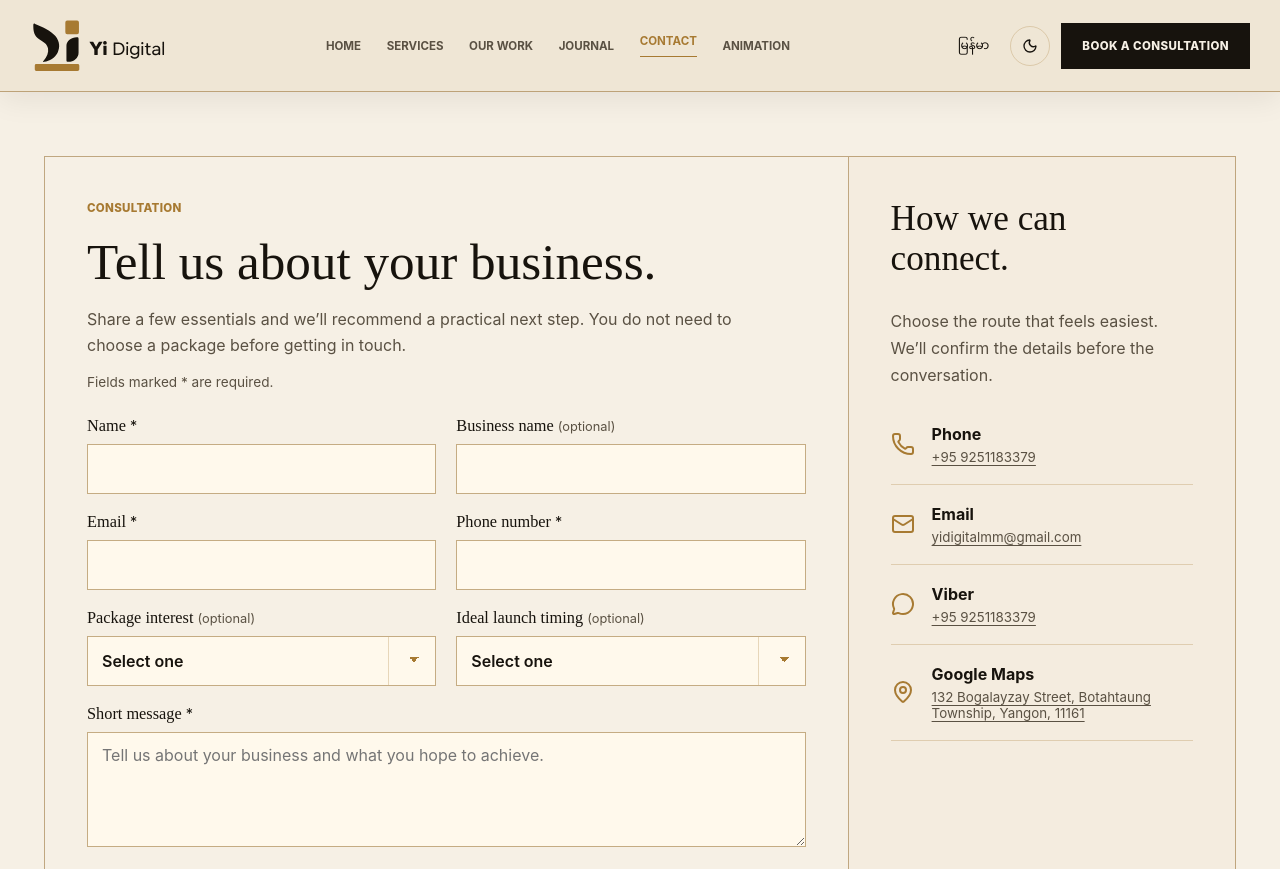
contact submission UI › stays on the page and confirms only a successful API response
This screenshot has width=1280, height=869.
Type "Test Customer" into the field labelled "Name" at [262, 469], box [87,444,436,494]
Type "customer@example.com" into the field labelled "Email" at [262, 565], box [87,540,436,590]
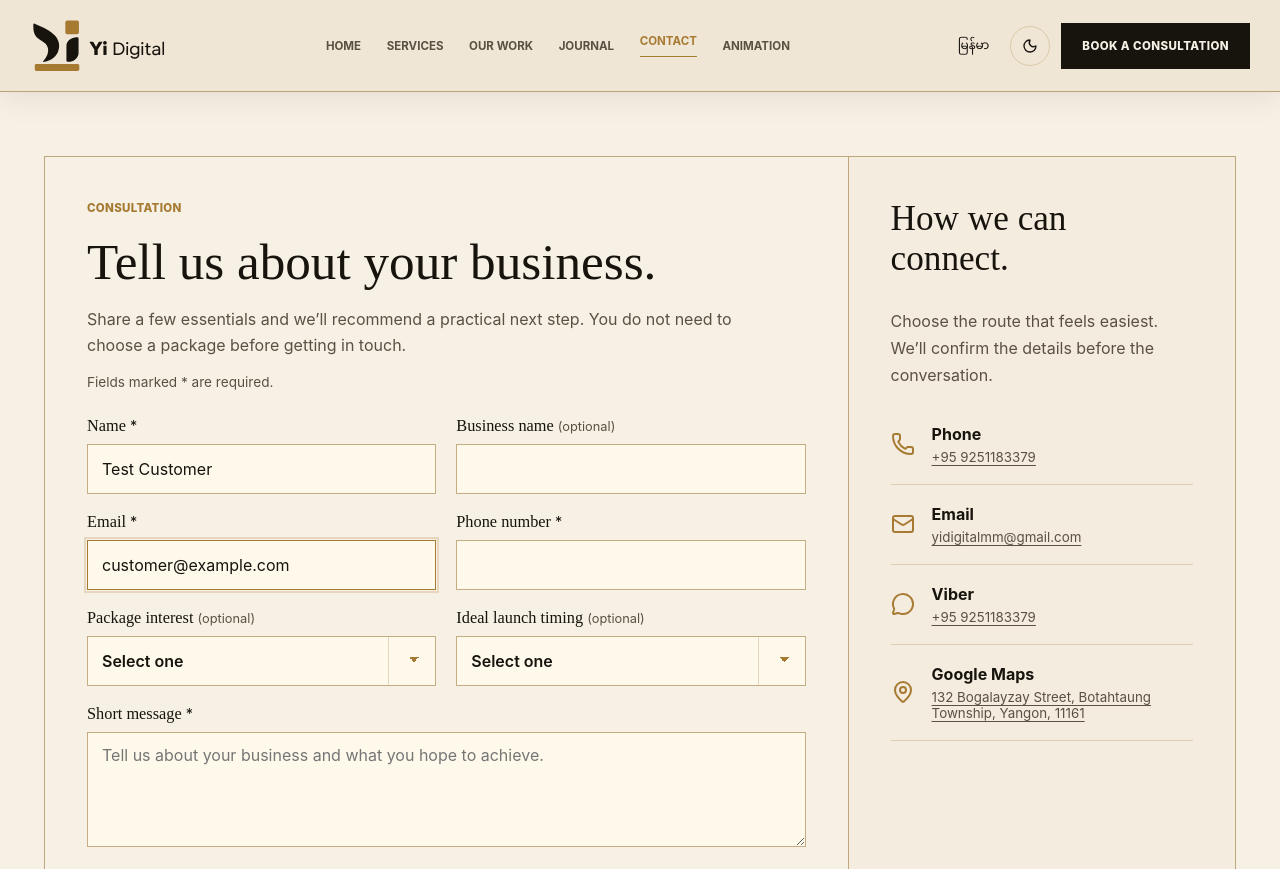
Type "+959123456789" into the field labelled "Phone number" at [631, 565], box [456,540,806,590]
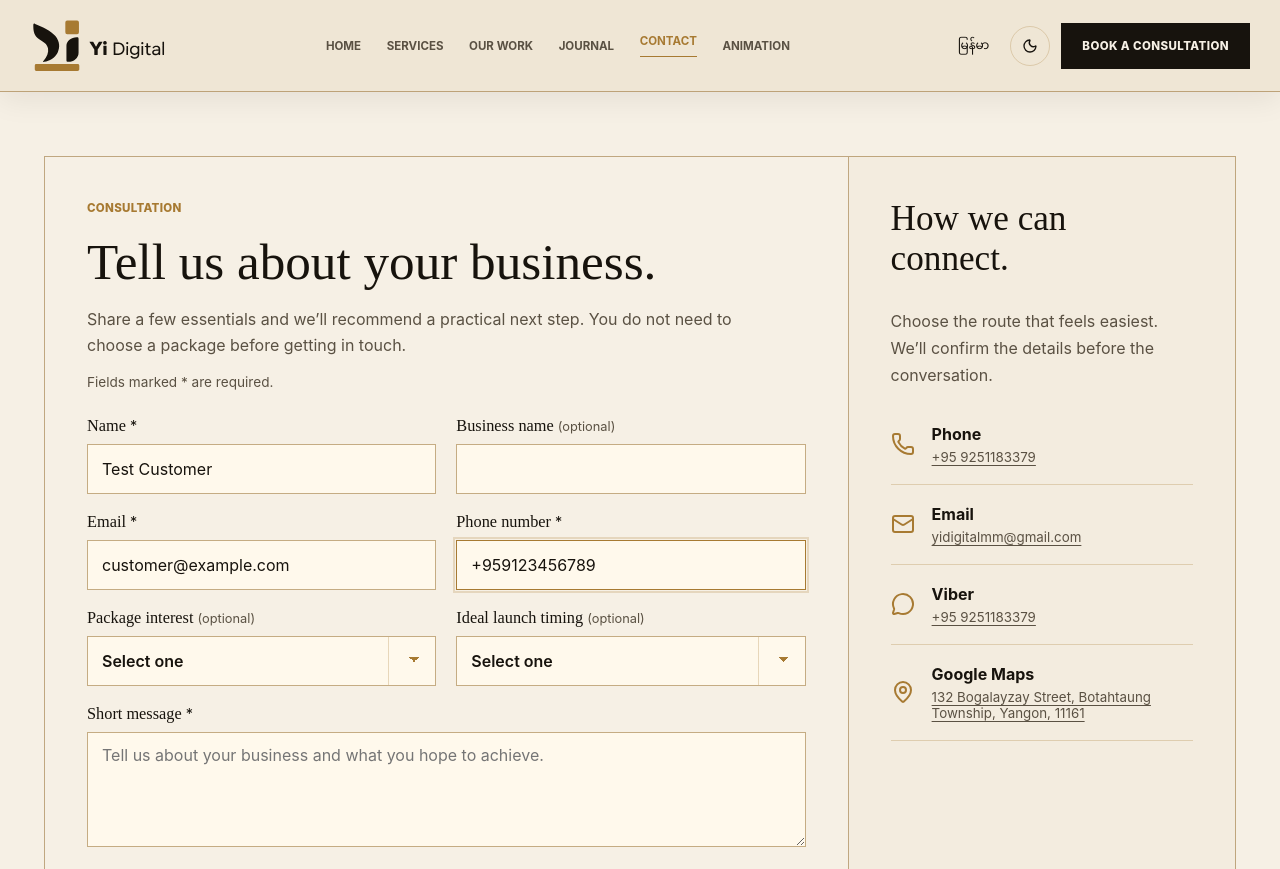
Type "Please help with my website." into the text box labelled "Short message" at [446, 790], box [87,732,806,847]
(page scrolled)
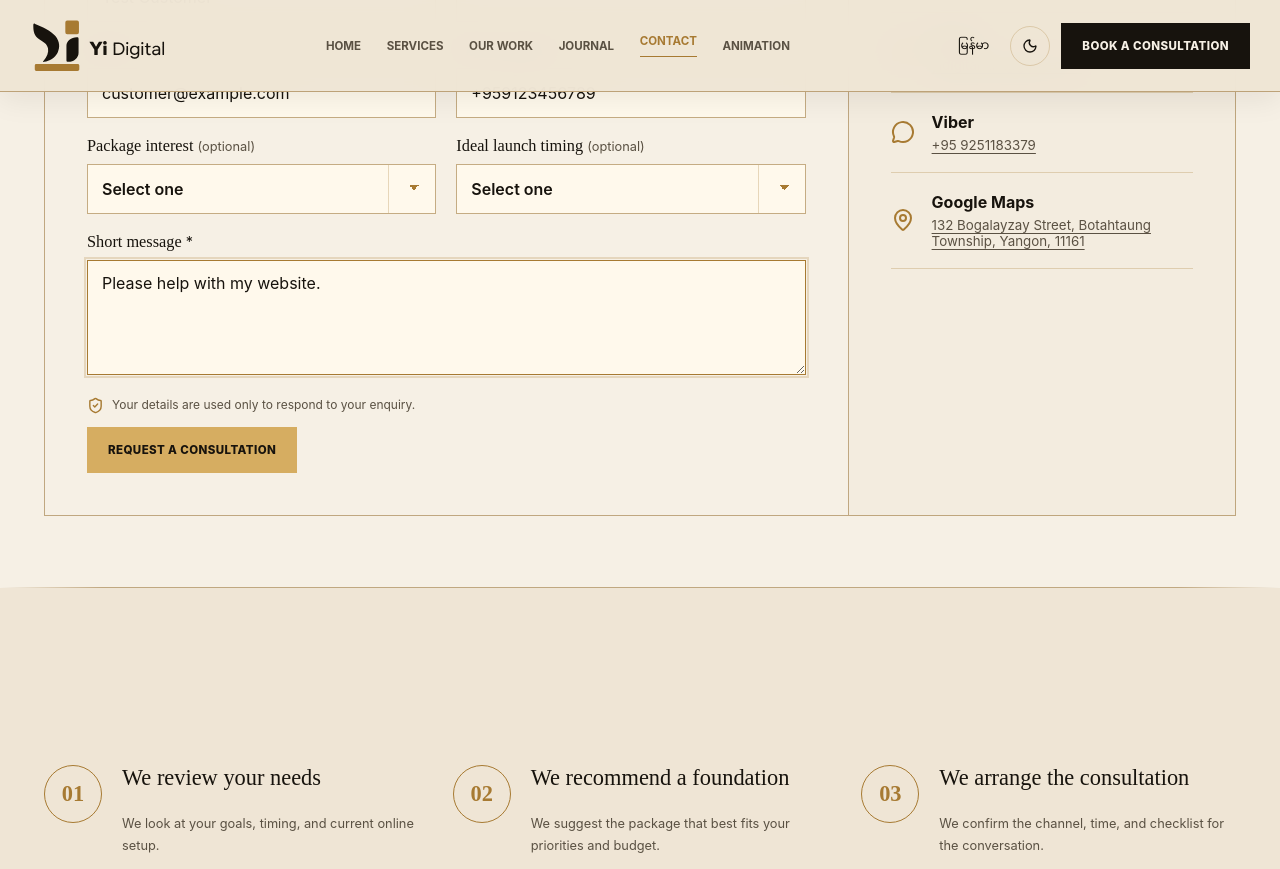
Click the button "Request a consultation" at [192, 450], box [87,427,297,473]
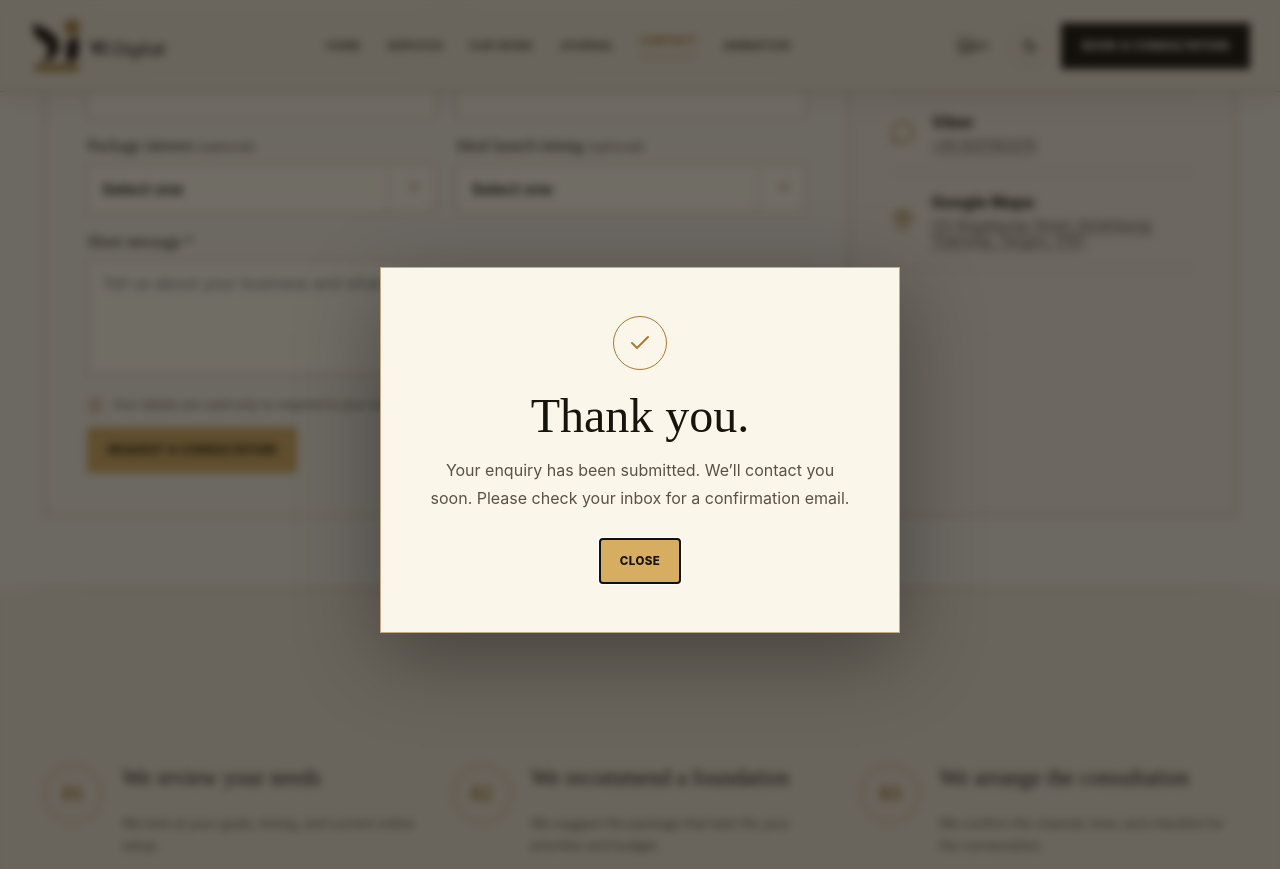
expect the dialog shows "Your enquiry has been submitted": met, box [430,460,849,508]
Click the text "Your enquiry has been submitted" at [640, 484], box [429,457,851,512]
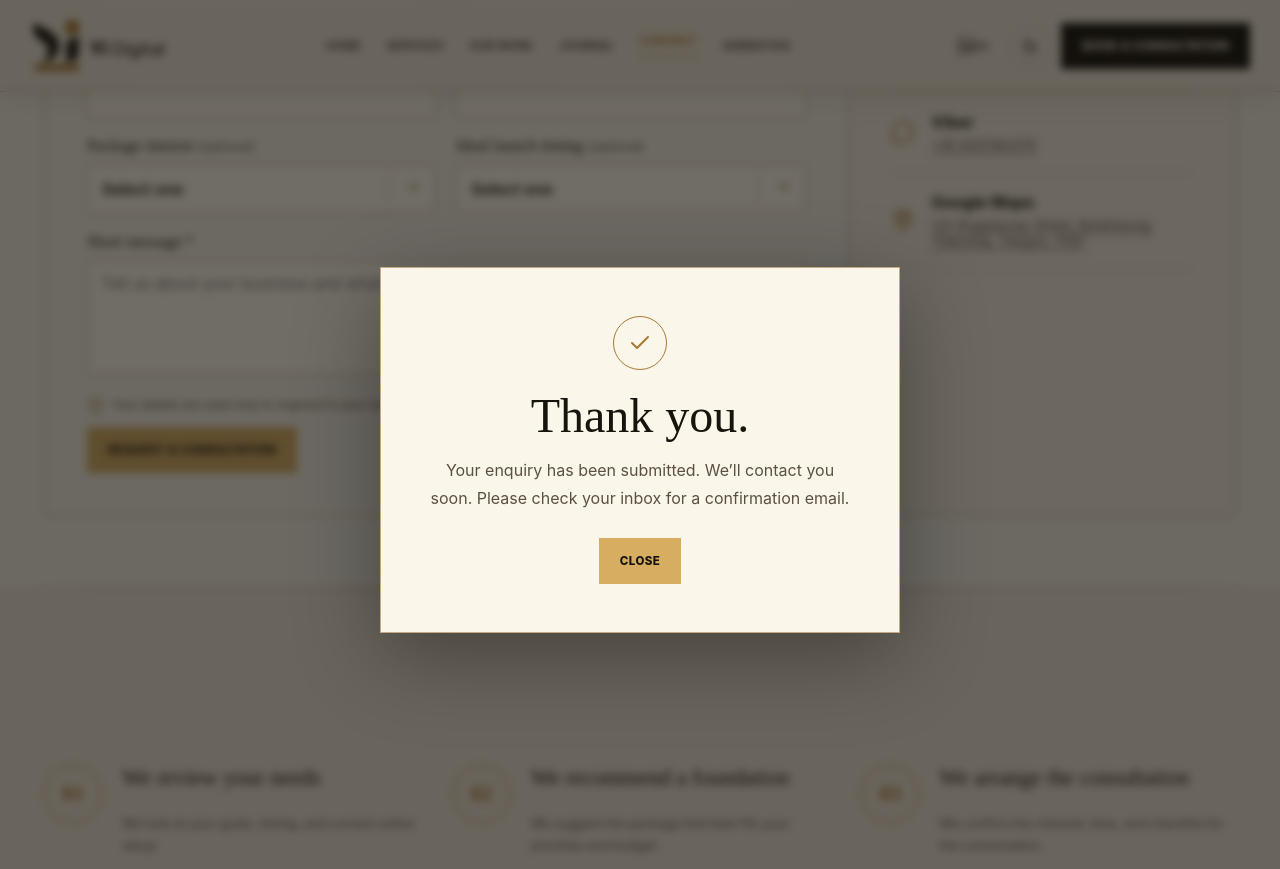
Click the dialog at [640, 450], box [380,267,900,633]
(page scrolled)
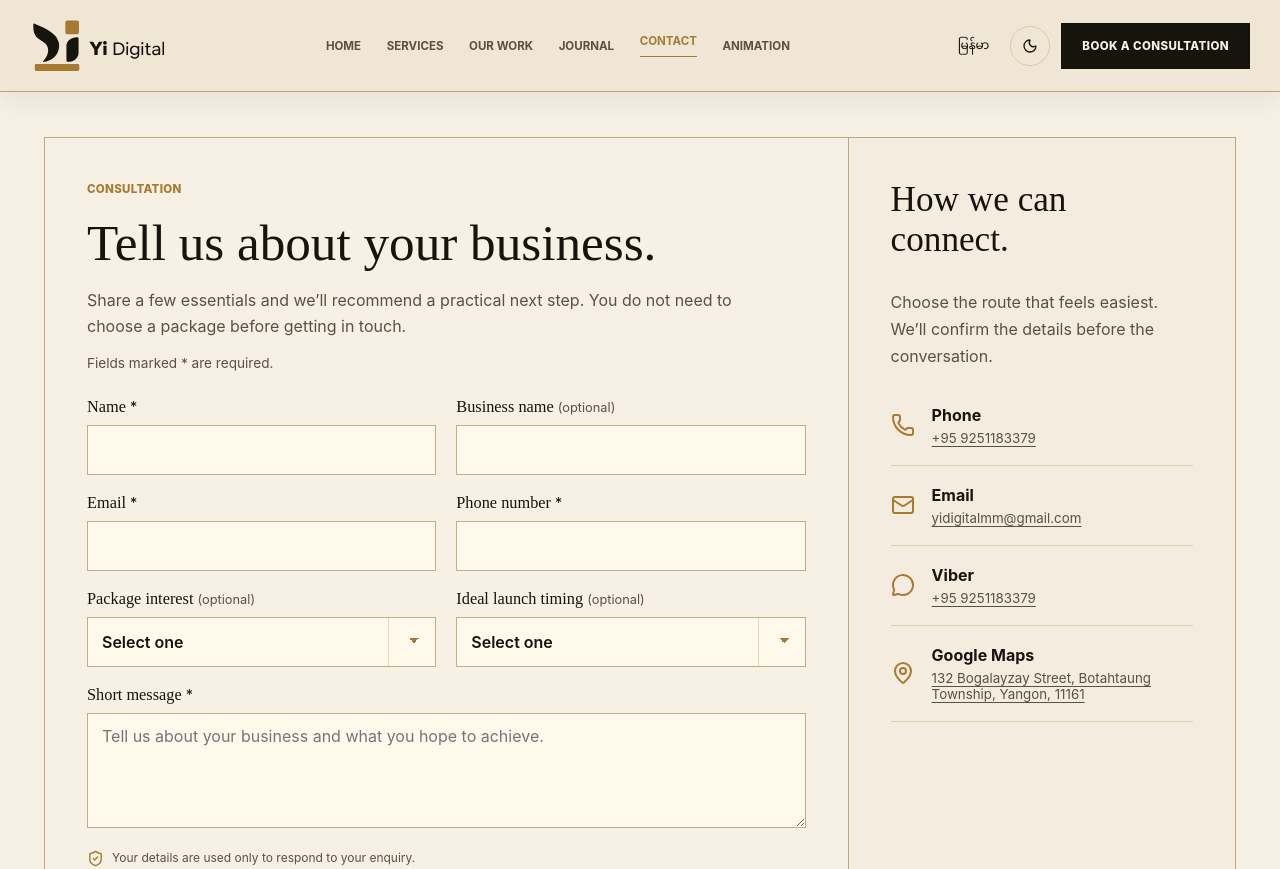
expect the field labelled "Name" is empty: met, box [87,425,436,475]
expect the dialog is gone: met
